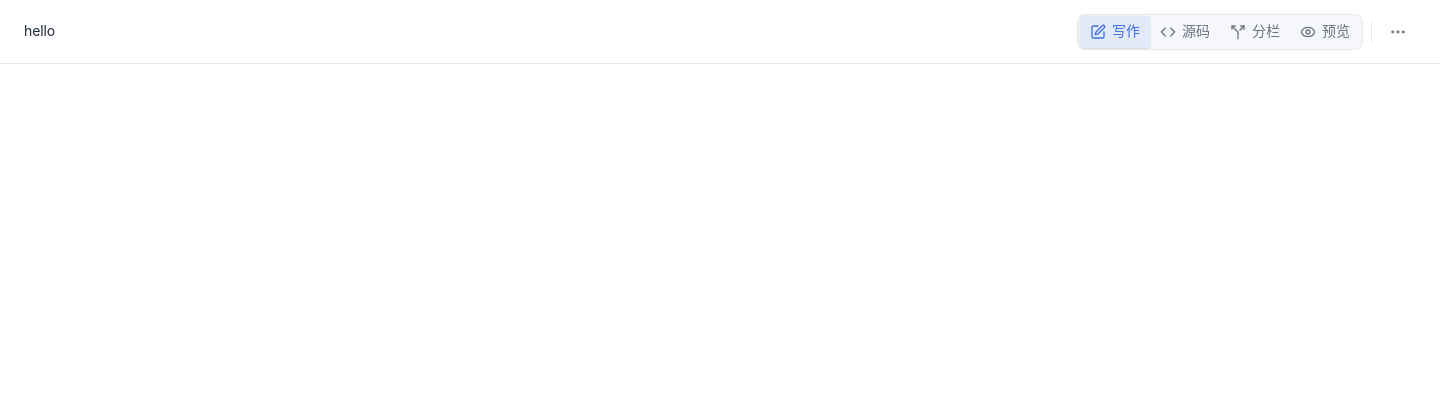
Scenario: EditorToolbar / 更多菜单 / 工具入口 › 加密态提供「解密此笔记」入口
Click the button named "更多" at point(1398, 32), box 1380,14 -> 1416,50
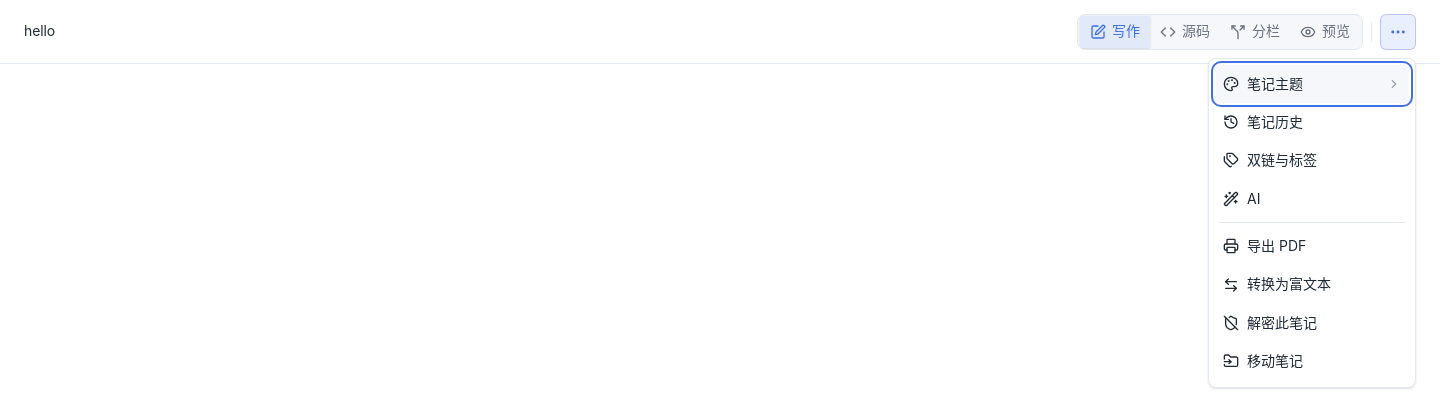
expect the menu item "解密此笔记" is shown: met, box 1215,304 -> 1409,342
